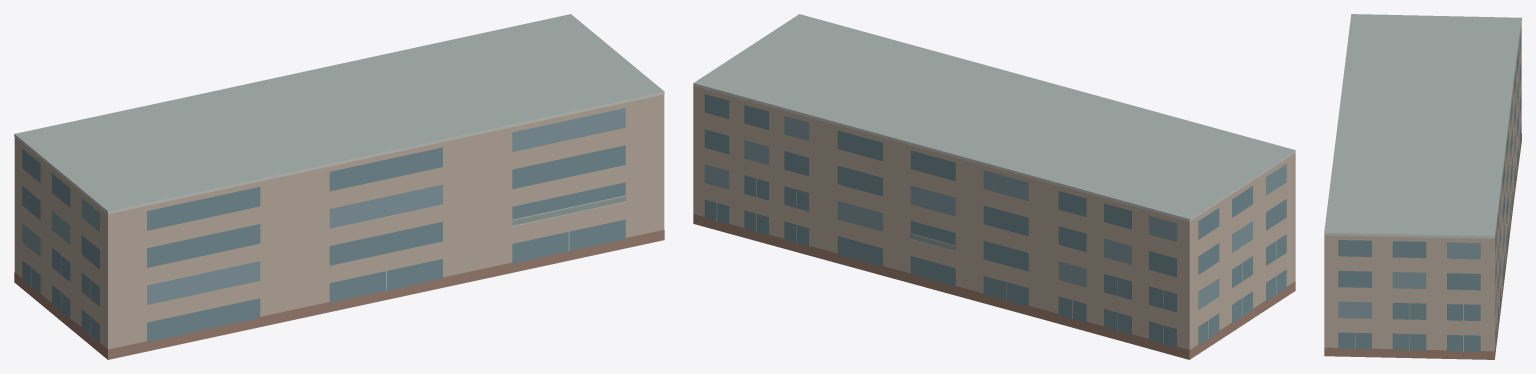
Rendered from residential-337ca7ac-3f73-4462-a395-e003f8cbac4c.glb.
3 views of the same model, side by side, from view 1: azimuth 30°, elevation 25°; view 2: azimuth 150°, elevation 25°; view 3: azimuth 270°, elevation 25° (orthographic). The views are drawn at different scales.
Visible parts, largest first — view 1: residential-337ca7ac-3f73-4462-a395-e003f8cbac4c.tmp; view 2: residential-337ca7ac-3f73-4462-a395-e003f8cbac4c.tmp; view 3: residential-337ca7ac-3f73-4462-a395-e003f8cbac4c.tmp.
Boxes of the visible parts, box(x1,y1,x2,y2) form: residential-337ca7ac-3f73-4462-a395-e003f8cbac4c.tmp: box(14, 14, 664, 359); residential-337ca7ac-3f73-4462-a395-e003f8cbac4c.tmp: box(693, 14, 1295, 359); residential-337ca7ac-3f73-4462-a395-e003f8cbac4c.tmp: box(1324, 14, 1521, 359).
Size of the model in its own units: 47.2 by 12.2 by 17.72.
